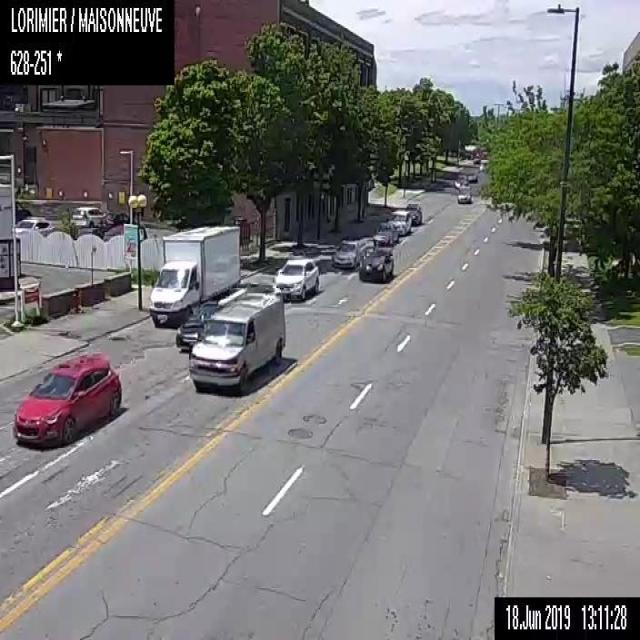vehicle: (12, 354, 122, 446), (188, 292, 285, 392), (149, 226, 240, 326), (174, 299, 222, 350), (272, 257, 318, 298), (332, 234, 374, 270), (358, 248, 393, 280), (13, 216, 52, 235), (72, 205, 104, 226), (372, 221, 399, 245), (387, 208, 410, 233), (404, 202, 421, 225), (457, 185, 471, 203), (454, 172, 466, 186), (466, 170, 477, 182)
